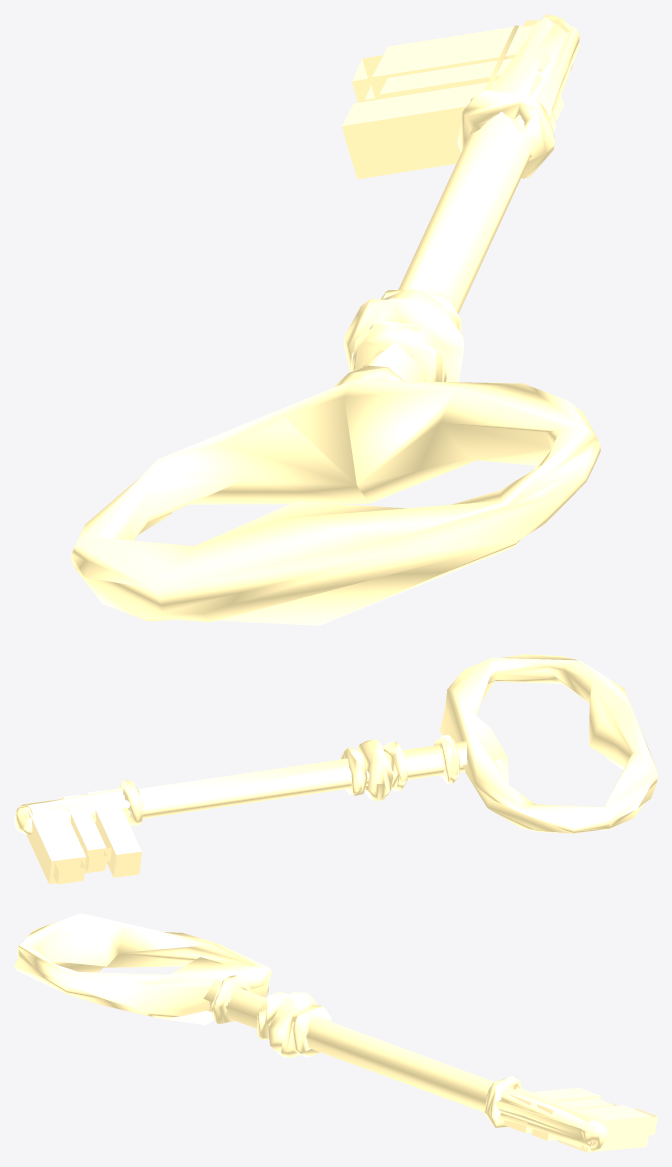
File: key.glb
3 views of the same model, one above another, from view 1: azimuth 30°, elevation 25°; view 2: azimuth 150°, elevation 25°; view 3: azimuth 270°, elevation 25° (orthographic). The views are drawn at different scales.
Parts seen in each view (by area): view 1: Key; view 2: Key; view 3: Key.
Part boxes in pixels (x1,y1,x2,y2): Key: [71, 14, 600, 625]; Key: [14, 654, 657, 884]; Key: [14, 913, 657, 1152].
Bounding box in the file's own units: 0.4534 × 0.0789 × 0.5402.
